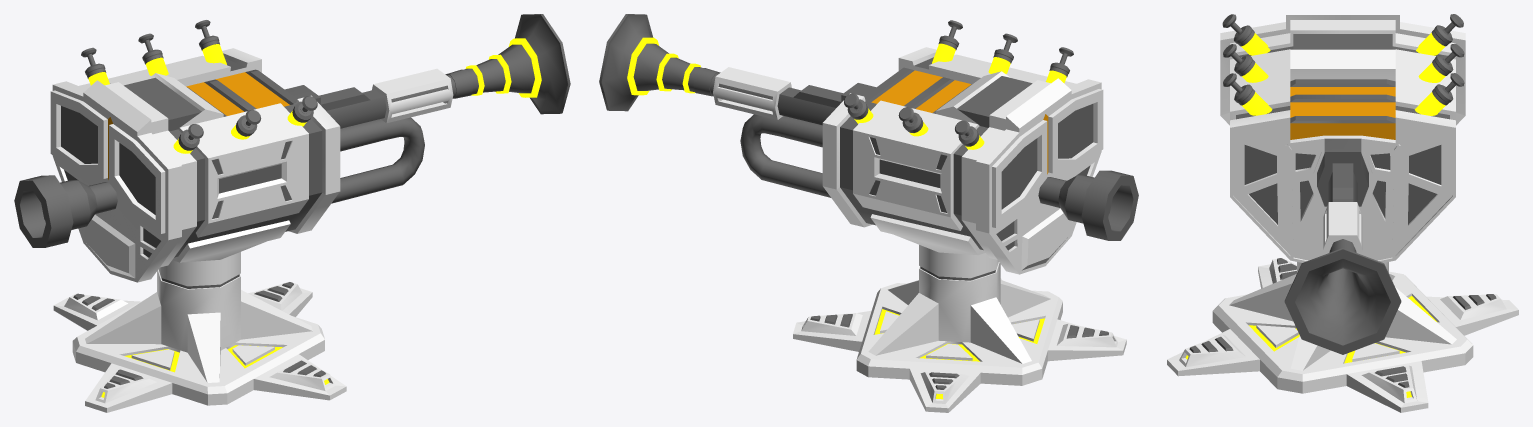
Rendered from Trumpet Cannon.gltf.
The picture shows the model from 3 angles, left to right: view 1: azimuth 30°, elevation 25°; view 2: azimuth 150°, elevation 25°; view 3: azimuth 270°, elevation 25°; orthographic projection. The views are drawn at different scales.
Visible parts, largest first — view 1: Trumpet low_poly; view 2: Trumpet low_poly; view 3: Trumpet low_poly.
Part boxes in pixels (left/top/right/bottom): Trumpet low_poly: left=14, top=14, right=570, bottom=412; Trumpet low_poly: left=599, top=14, right=1138, bottom=412; Trumpet low_poly: left=1167, top=14, right=1518, bottom=412.
Size of the model in its own units: 2.22 by 1.16 by 1.25.
